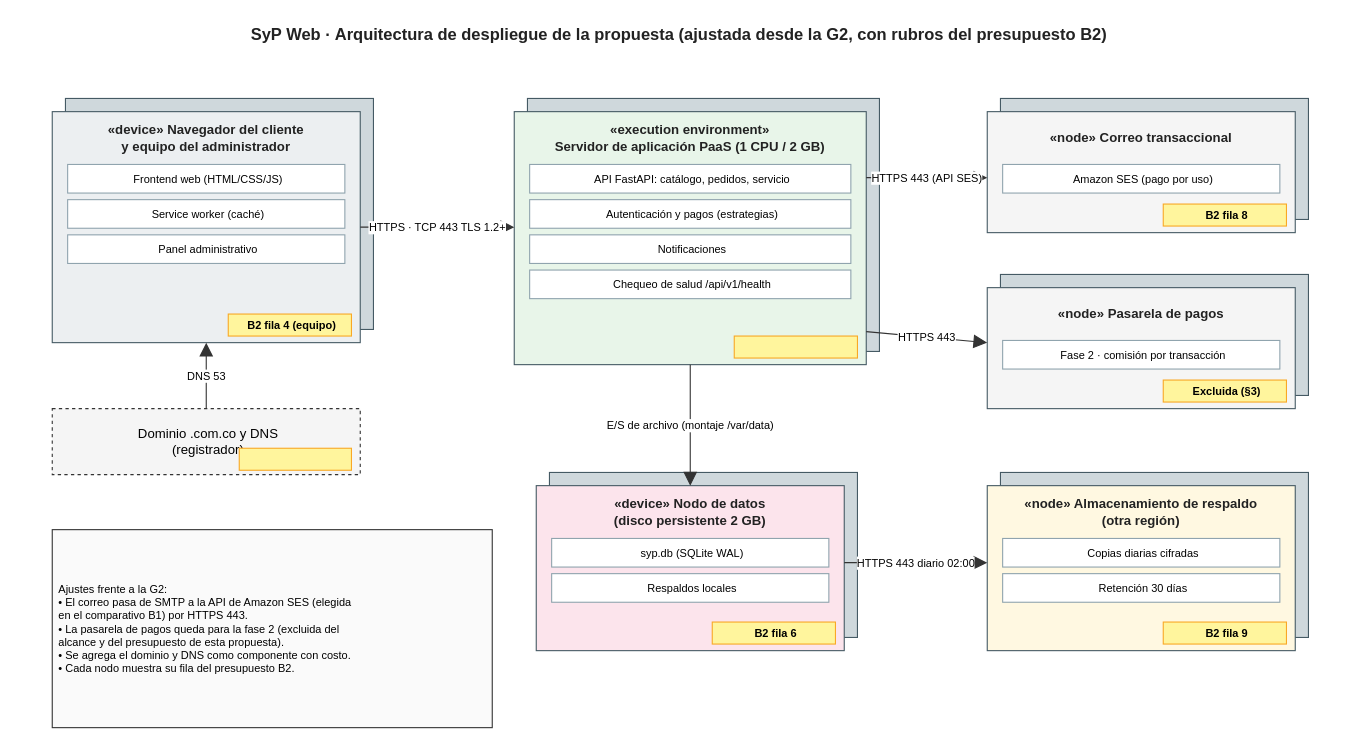
This 1357x747 diagram has some shape labels left out. The shapes that lost their labels are listed below. From the top down, each one's centre as x and y in pixels, then its label:
At [795,346]: "B2 filas 2, 5, 7".
At [294,458]: "B2 fila 10".
